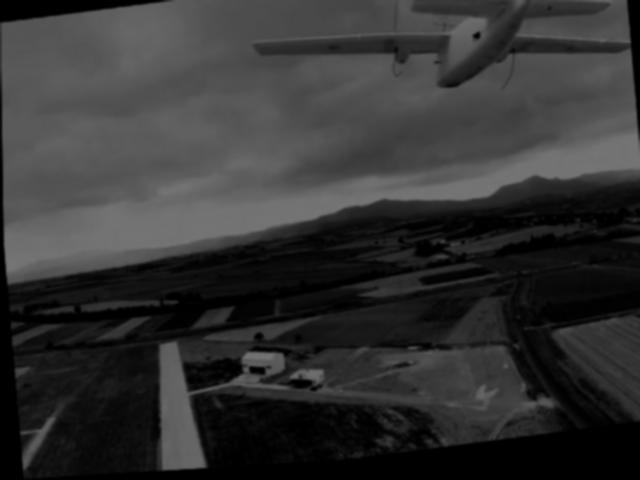hedef: (245, 0, 634, 133)
